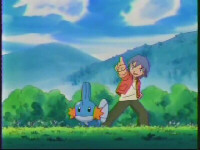mudkip: (68, 80, 110, 129)
